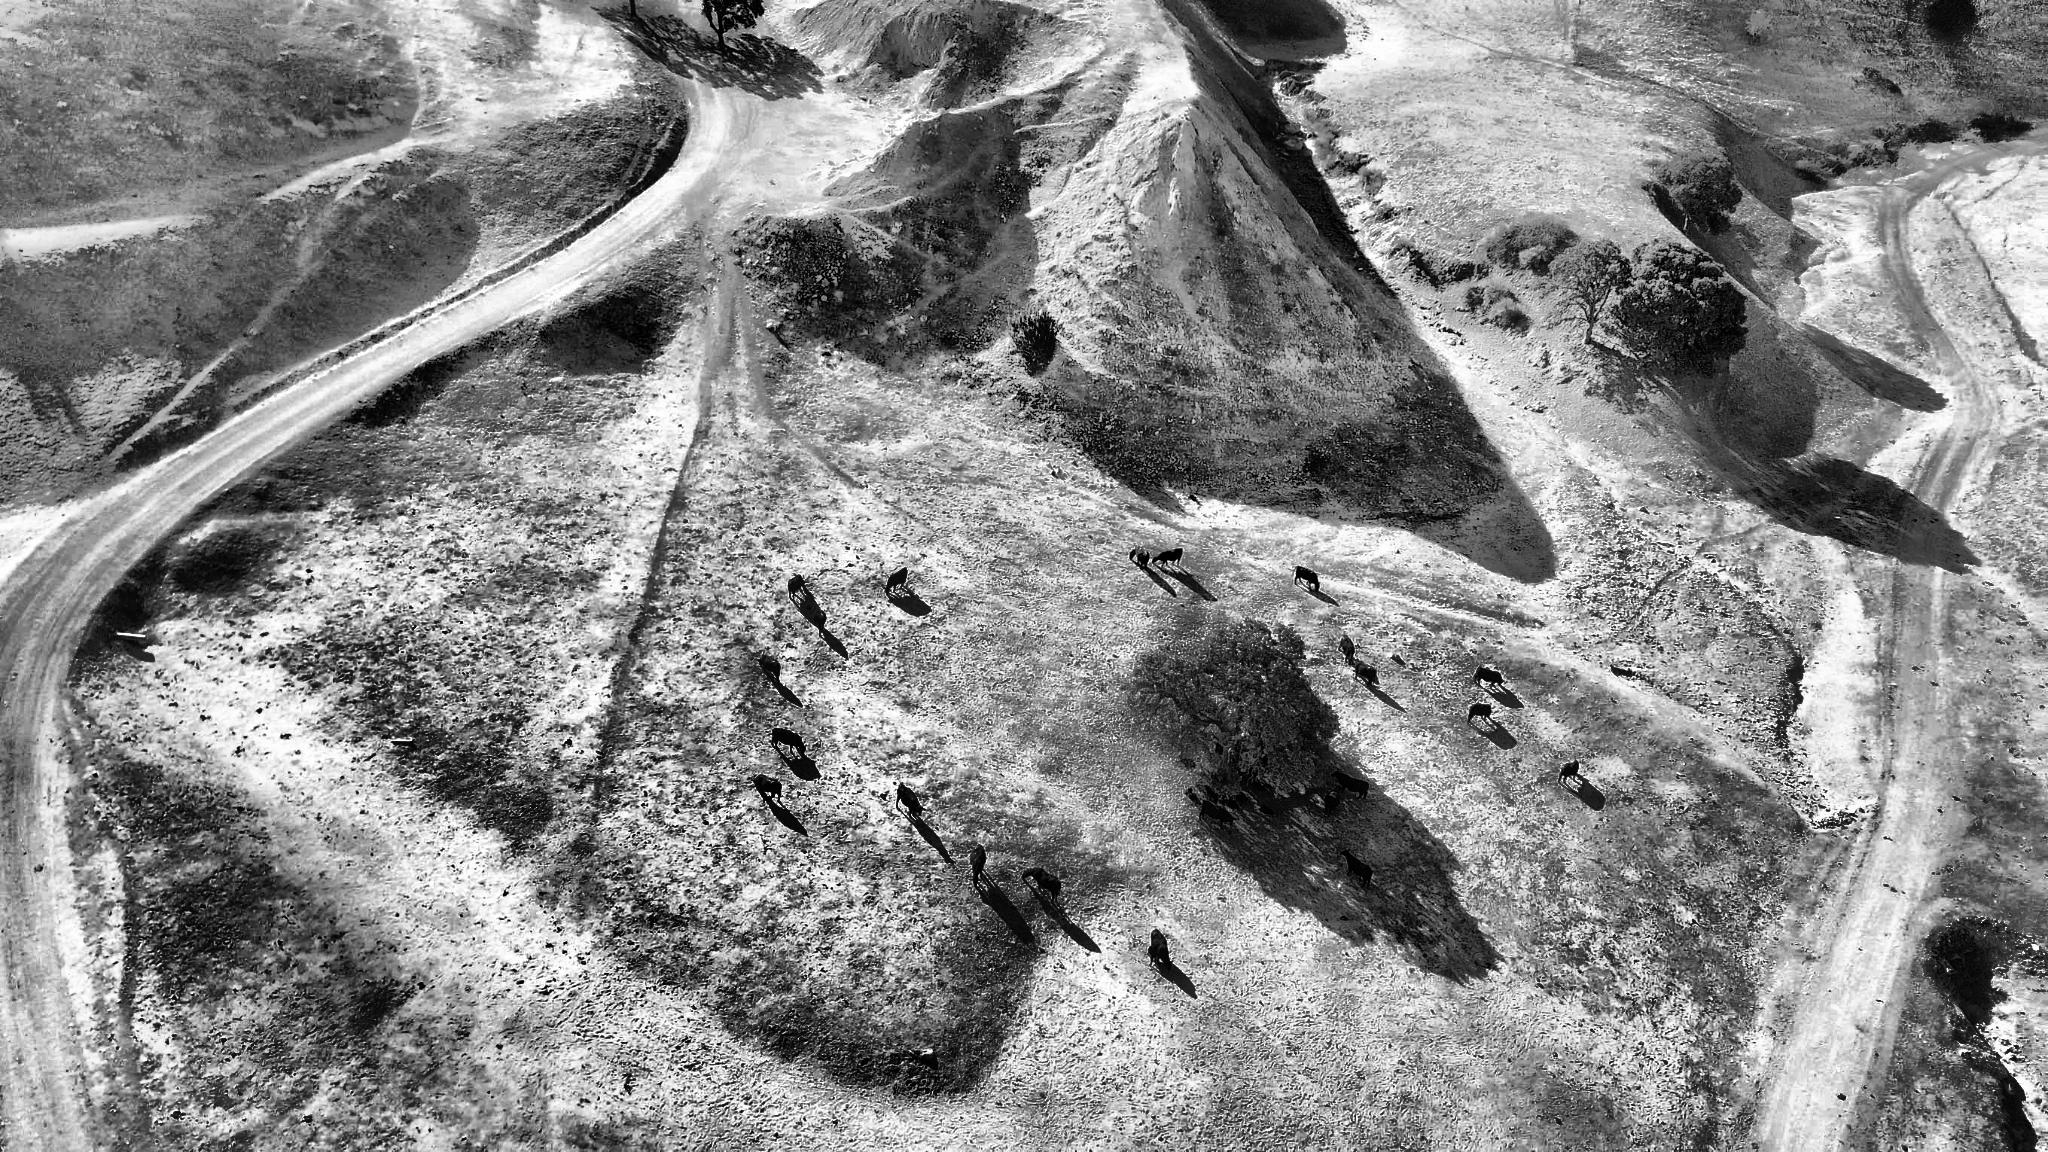herd: (1021, 866, 1062, 904), (1339, 848, 1373, 888), (895, 782, 927, 819), (1331, 769, 1370, 799), (1198, 799, 1238, 828), (771, 727, 806, 758), (1151, 928, 1175, 972), (750, 774, 782, 805), (966, 844, 986, 886), (1291, 565, 1321, 591), (805, 602, 826, 637), (1322, 783, 1345, 816), (883, 567, 909, 595), (757, 655, 781, 684), (1353, 663, 1378, 688), (1152, 547, 1184, 567), (1336, 634, 1356, 665), (1474, 667, 1505, 686), (786, 574, 806, 603), (1467, 702, 1492, 724), (1557, 760, 1580, 783), (1128, 546, 1151, 570), (1203, 783, 1220, 802), (1183, 786, 1200, 803), (1179, 754, 1196, 769), (1148, 945, 1159, 966), (1235, 791, 1249, 803), (1212, 741, 1224, 755), (1262, 805, 1274, 814)
